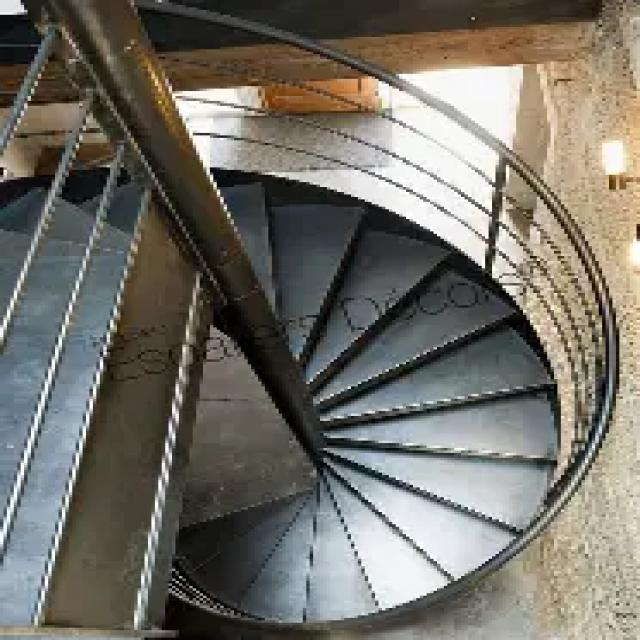Stairs: (170, 258, 583, 625)
